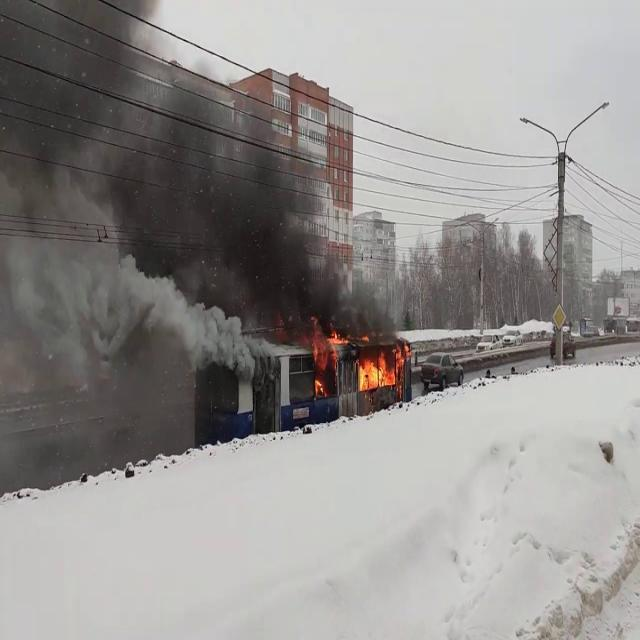Fire: (355, 340, 409, 394)
Smoke: (1, 0, 388, 348), (0, 0, 242, 452)
